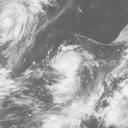cyclone: (55, 48, 81, 76)
